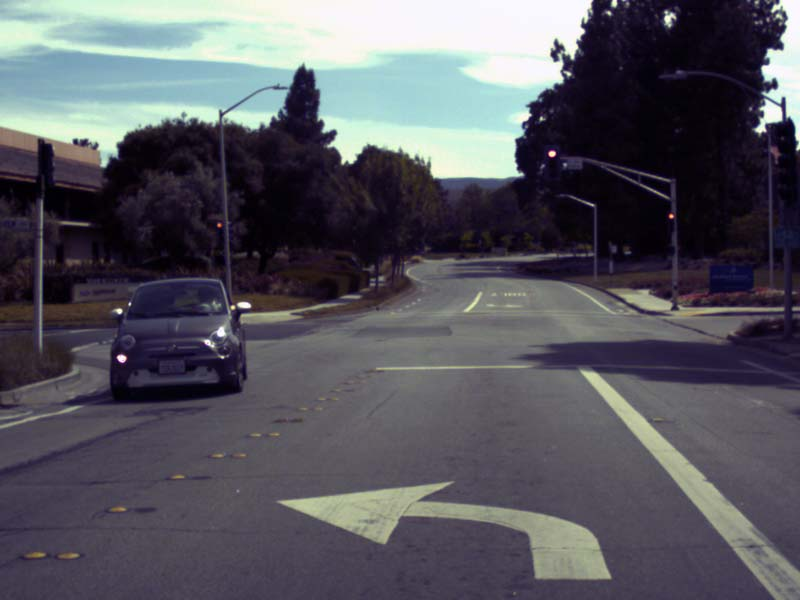Red: (545, 144, 560, 180), (666, 211, 674, 231), (215, 221, 222, 240)
